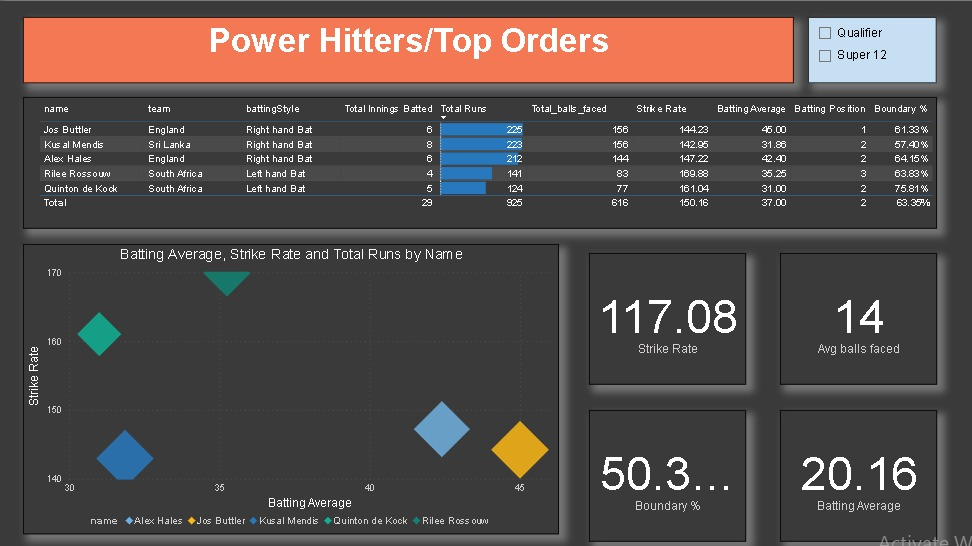

What the dashboard file says about the page in this screenshot:
{"tool":"powerbi","page":{"name":"Power Hitters/Top Orders","canvas":[1280,720],"ordinal":0},"visuals":[{"type":"tableEx","fields":{"Values":["dim_players.name","dim_players.team","dim_players.battingStyle","Key_Measures.Total Innings Batted","Key_Measures.Total Runs","Key_Measures.Total_balls_faced","Key_Measures.Strike Rate","Key_Measures.Batting Average","Key_Measures.Batting Position","Key_Measures.Boundary %"]},"box":[31.7,125.3,1186.6,171.4],"z":0},{"type":"card","fields":{"Values":["Key_Measures.Strike Rate"]},"box":[766.1,326.9,204.5,171.4],"z":1000},{"type":"card","fields":{"Values":["Key_Measures.Avg balls faced"]},"box":[1013.8,326.9,204.5,171.4],"z":2000},{"type":"card","fields":{"Values":["Key_Measures.Boundary %"]},"box":[766.1,531.4,204.5,171.4],"z":3000},{"type":"card","fields":{"Values":["Key_Measures.Batting Average"]},"box":[1013.8,531.4,204.5,171.4],"z":4000},{"type":"scatterChart","title":"Batting Average, Strike Rate and Total Runs by Name","fields":{"Category":["dim_players.name"],"X":["Key_Measures.Batting Average"],"Y":["Key_Measures.Strike Rate"],"Series":["dim_players.name"],"Size":["Key_Measures.Total Runs"]},"box":[31.7,315.4,695.5,377.3],"z":5000},{"type":"textbox","box":[31.6,21,1001.2,85.9],"z":6000},{"type":"slicer","fields":{"Values":["dim_match_summary.stage"]},"box":[1050.5,21.4,166.8,85.5],"z":7000}]}

Visuals, with their boxes in screenshot pixels (x1, y1, x2, y2), scaled from the page's 1280x720 canvas onto the 972x546 screenshot:
tableEx - dim_players.name x dim_players.team: [24,95,925,225]
card - Key_Measures.Strike Rate: [582,248,737,378]
card - Key_Measures.Avg balls faced: [770,248,925,378]
card - Key_Measures.Boundary %: [582,403,737,533]
card - Key_Measures.Batting Average: [770,403,925,533]
"Batting Average, Strike Rate and Total Runs by Name" scatterChart: [24,239,552,525]
textbox: [24,16,784,81]
slicer - dim_match_summary.stage: [798,16,924,81]
